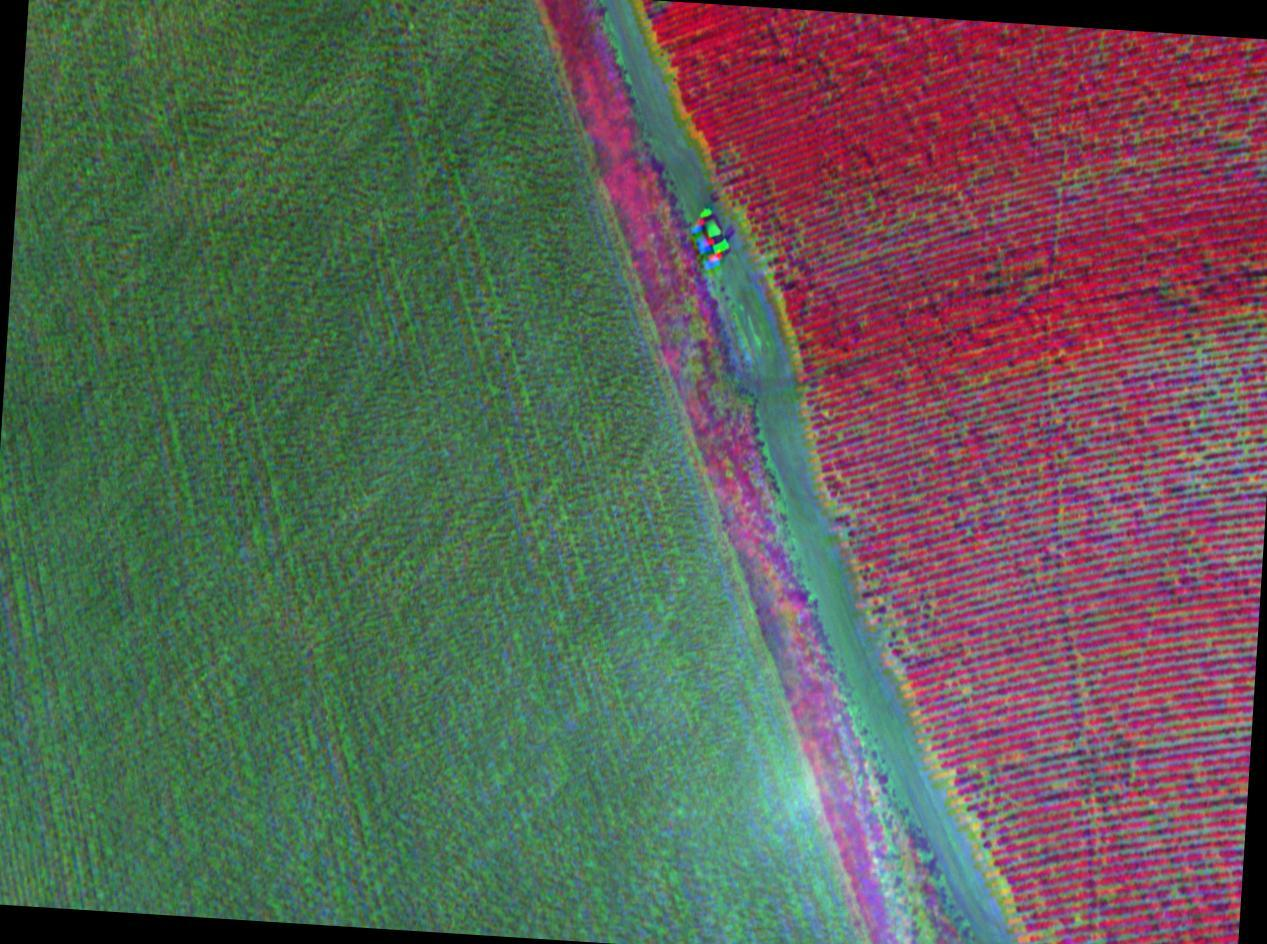dc: (1158, 318, 1267, 429), (963, 740, 1061, 834), (851, 570, 937, 659), (1106, 435, 1187, 504), (1203, 430, 1267, 510)
